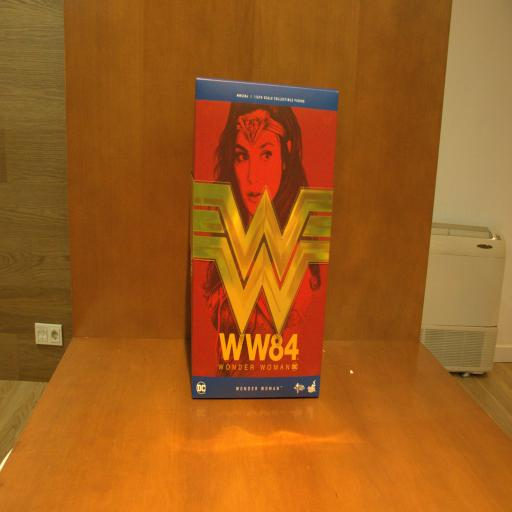WonderWoman: (192, 74, 338, 404)
